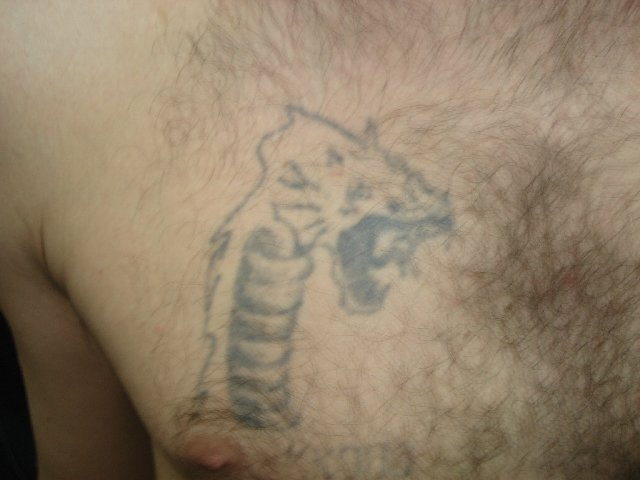tatu6_drakon: (176, 61, 461, 449)
